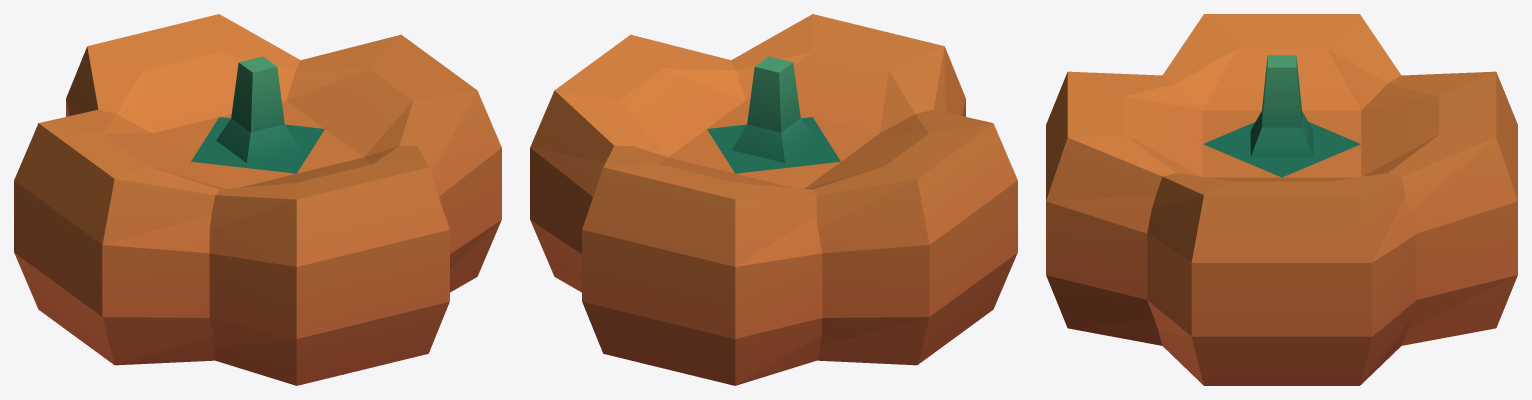
Rendered from pumpkin.glb.
3 renders of one model, left to right at view 1: azimuth 30°, elevation 25°; view 2: azimuth 150°, elevation 25°; view 3: azimuth 270°, elevation 25°, orthographic. The views are drawn at different scales.
Visible parts, largest first — view 1: geometry_0; view 2: geometry_0; view 3: geometry_0.
Boxes of the visible parts, left/top/right/bottom form: geometry_0: left=14, top=14, right=501, bottom=385; geometry_0: left=530, top=14, right=1017, bottom=385; geometry_0: left=1046, top=14, right=1517, bottom=385.
Bounding box in the file's own units: 1.07 × 0.5853 × 1.07.
